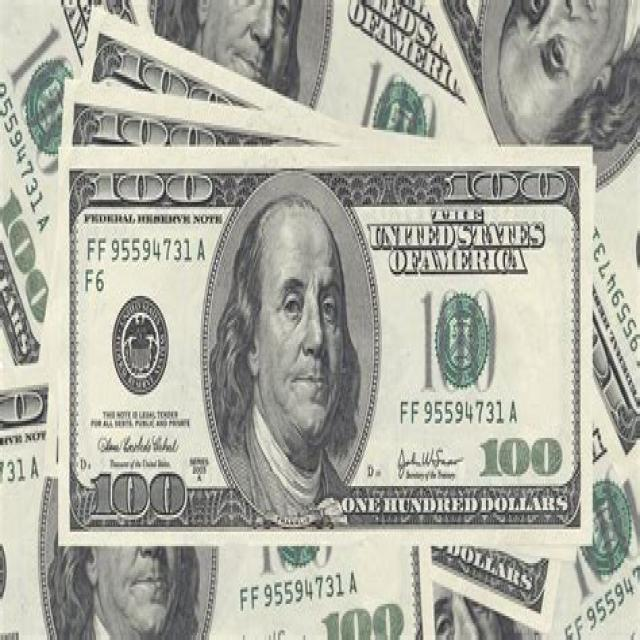Hundred: (58, 147, 593, 545), (0, 364, 435, 637), (106, 0, 488, 144)
